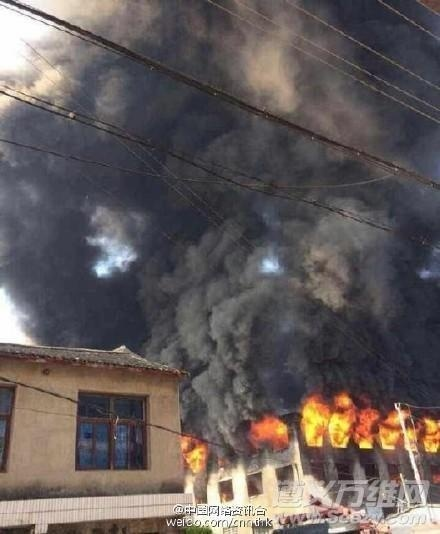fire: (301, 395, 437, 451), (251, 413, 287, 444), (179, 433, 205, 470)
